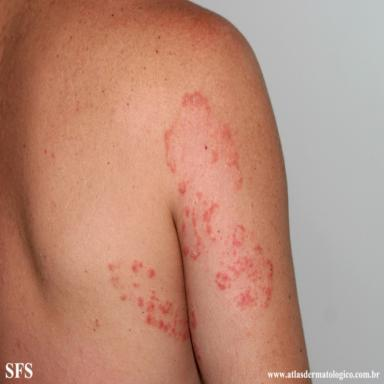Tinea-Corporis: (163, 90, 273, 311), (108, 260, 203, 362)
